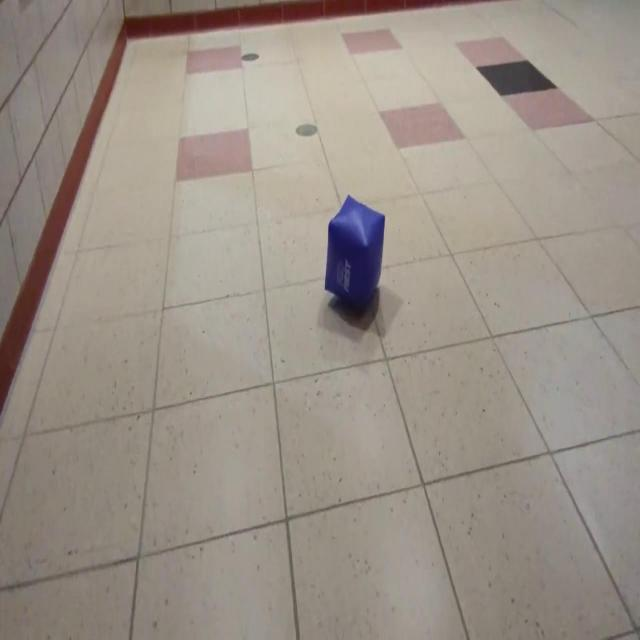frc_cube: (326, 195, 384, 316)
